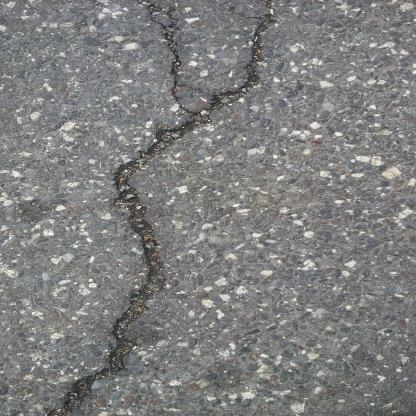Cracks: (49, 0, 281, 415)
